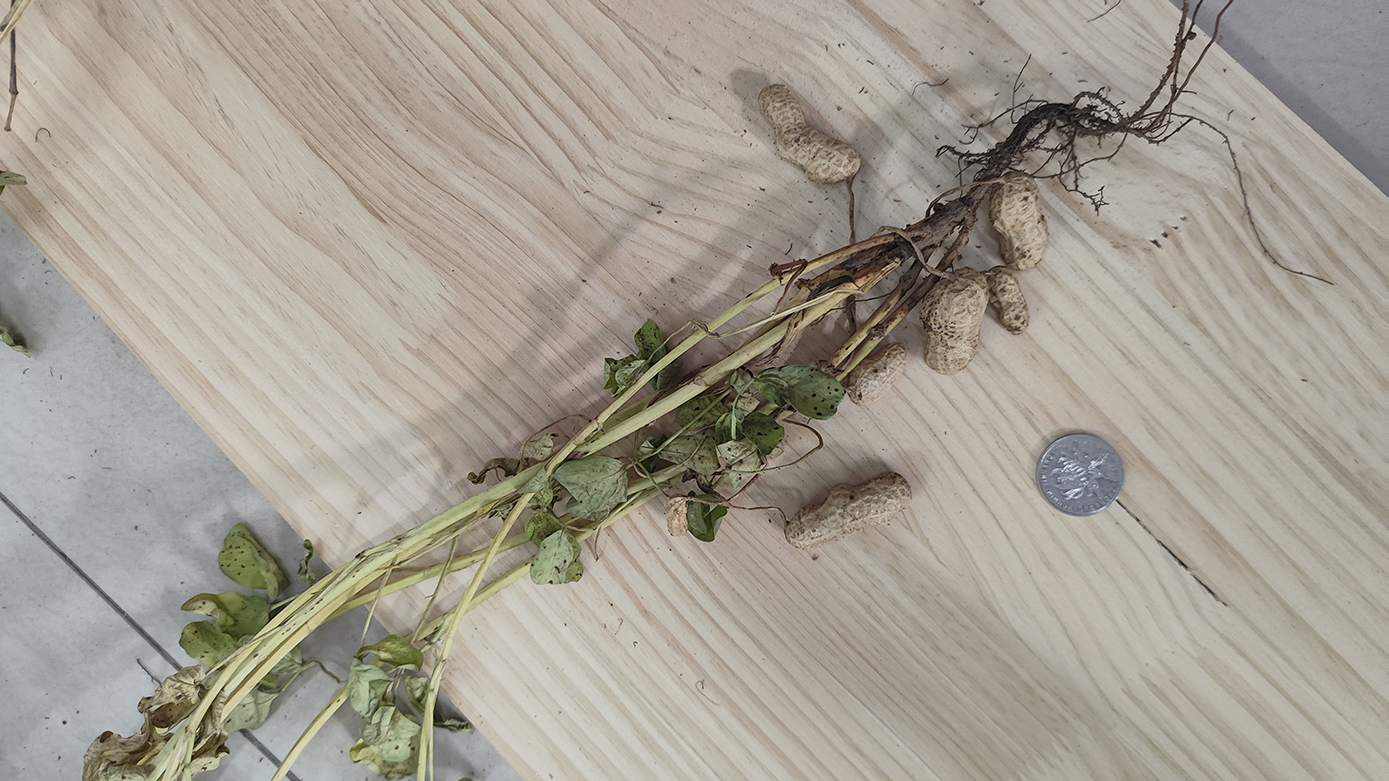h: (759, 84, 862, 183), (783, 473, 912, 547), (921, 264, 987, 373), (989, 170, 1050, 270), (848, 342, 910, 407), (986, 266, 1030, 335)
l: (668, 494, 689, 541)
